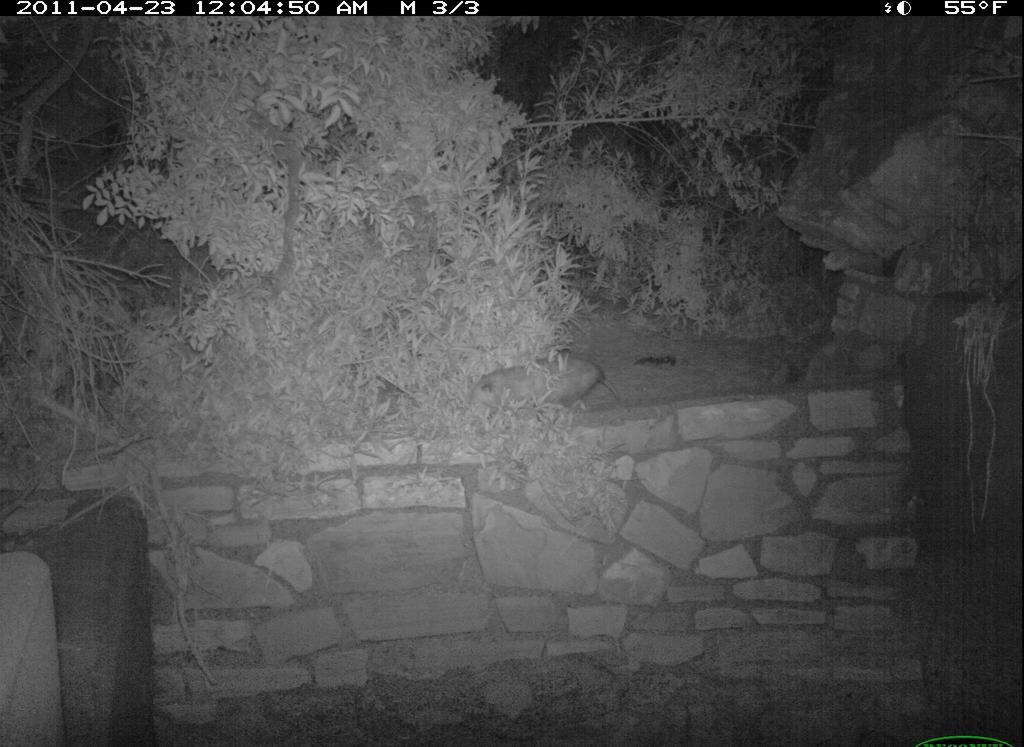opossum: (463, 342, 649, 431)
